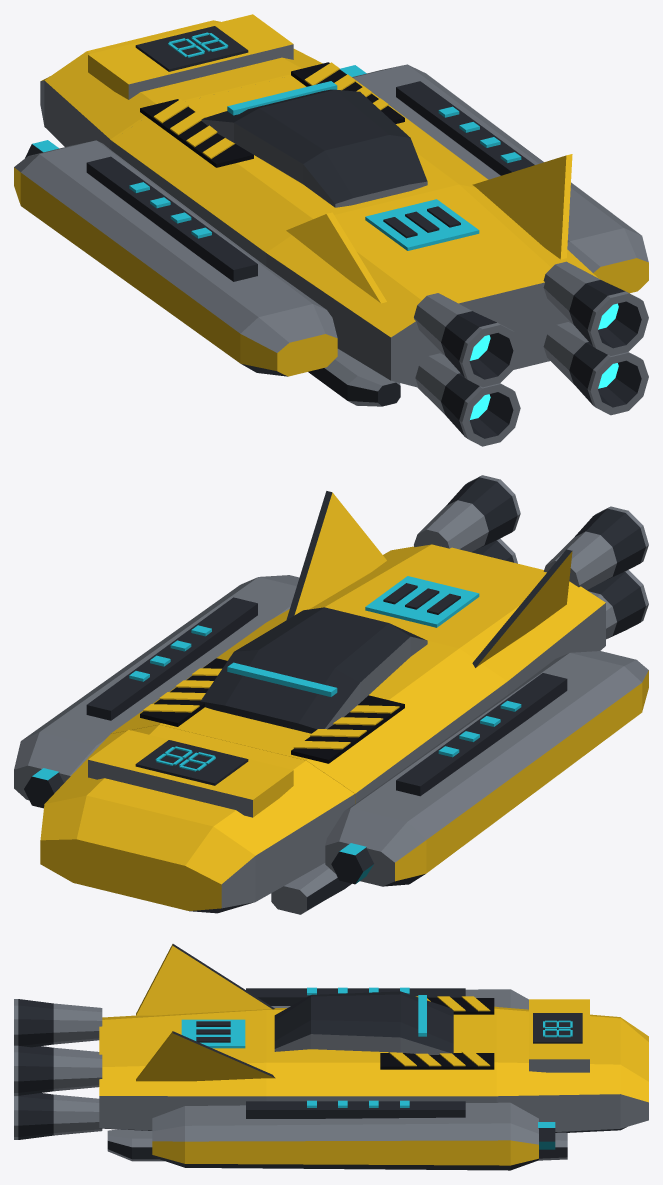
Rendered from hull-oni-c32462c6.glb.
3 views of the same model, one above another, from view 1: azimuth 30°, elevation 25°; view 2: azimuth 150°, elevation 25°; view 3: azimuth 270°, elevation 25° (orthographic). The views are drawn at different scales.
Visible parts, largest first — view 1: hull-oni_body, nose_forward, engine_rear_quad.003, engine_rear_quad.001, engine_rear_quad.002, engine_rear_quad; view 2: hull-oni_body, nose_forward, engine_rear_quad.001, engine_rear_quad.003, engine_rear_quad.002; view 3: hull-oni_body, nose_forward, engine_rear_quad.001, engine_rear_quad.003, engine_rear_quad.
Part boxes in pixels (bbox=[...]): hull-oni_body: bbox=[14, 14, 648, 406]; nose_forward: bbox=[40, 20, 322, 150]; engine_rear_quad.003: bbox=[414, 293, 520, 387]; engine_rear_quad.001: bbox=[543, 261, 648, 355]; engine_rear_quad.002: bbox=[415, 353, 520, 446]; engine_rear_quad: bbox=[543, 322, 648, 415]; hull-oni_body: bbox=[14, 491, 648, 914]; nose_forward: bbox=[40, 724, 356, 913]; engine_rear_quad.001: bbox=[414, 475, 520, 551]; engine_rear_quad.003: bbox=[543, 506, 648, 589]; engine_rear_quad.002: bbox=[587, 570, 648, 639]; hull-oni_body: bbox=[99, 944, 589, 1170]; nose_forward: bbox=[494, 1007, 648, 1132]; engine_rear_quad.001: bbox=[14, 1045, 102, 1095]; engine_rear_quad.003: bbox=[14, 999, 102, 1047]; engine_rear_quad: bbox=[14, 1093, 102, 1139].
Size of the model in its own units: 4.3 by 1.75 by 7.8.
